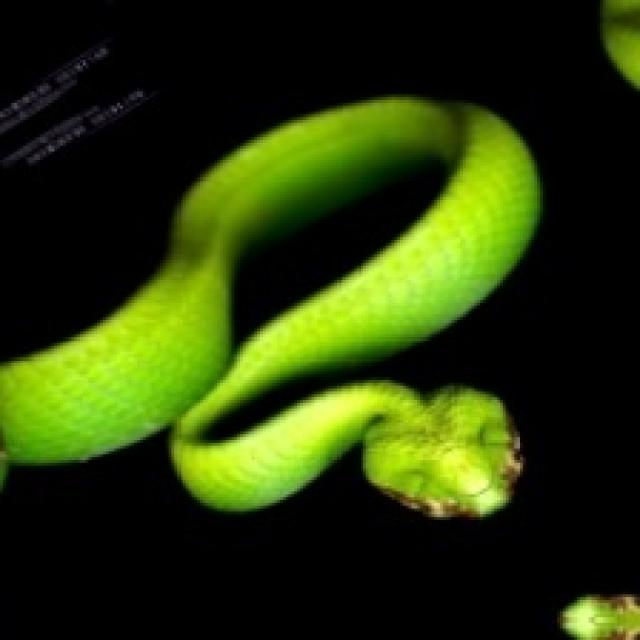north ph temple pitviper: (0, 97, 537, 514)
